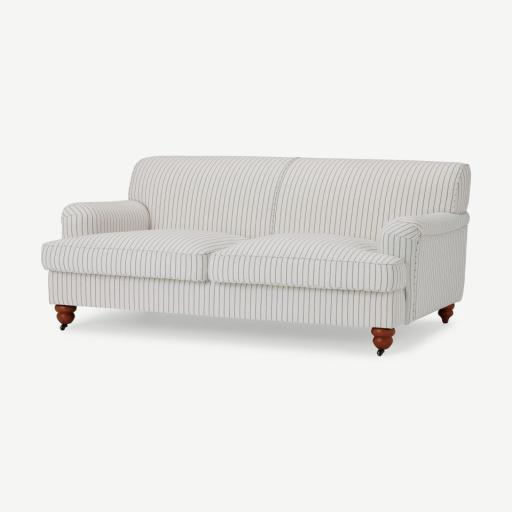back_cushion: (130, 156, 470, 240)
base: (49, 271, 405, 327)
left_arm: (379, 213, 468, 323)
legs: (372, 328, 395, 356), (55, 305, 76, 330), (438, 304, 454, 323)
right_arm: (62, 201, 149, 238)
seat_cushion: (42, 229, 405, 292)
two-seater: (0, 0, 511, 512)
